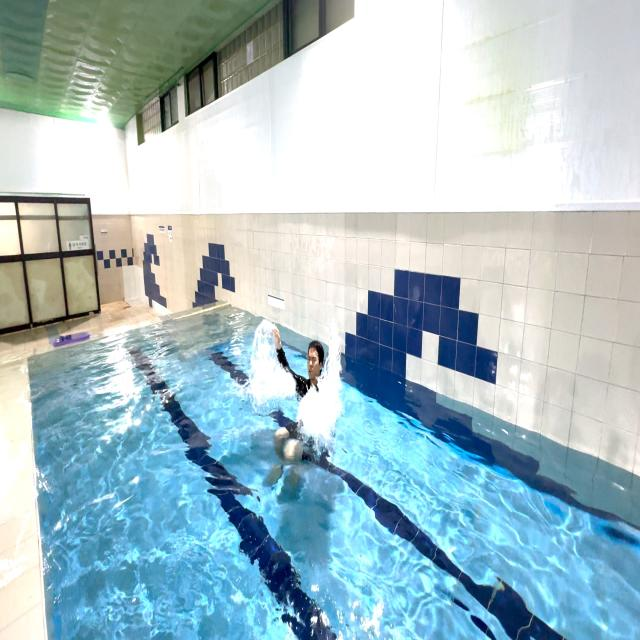Drowning: (246, 313, 349, 483)
